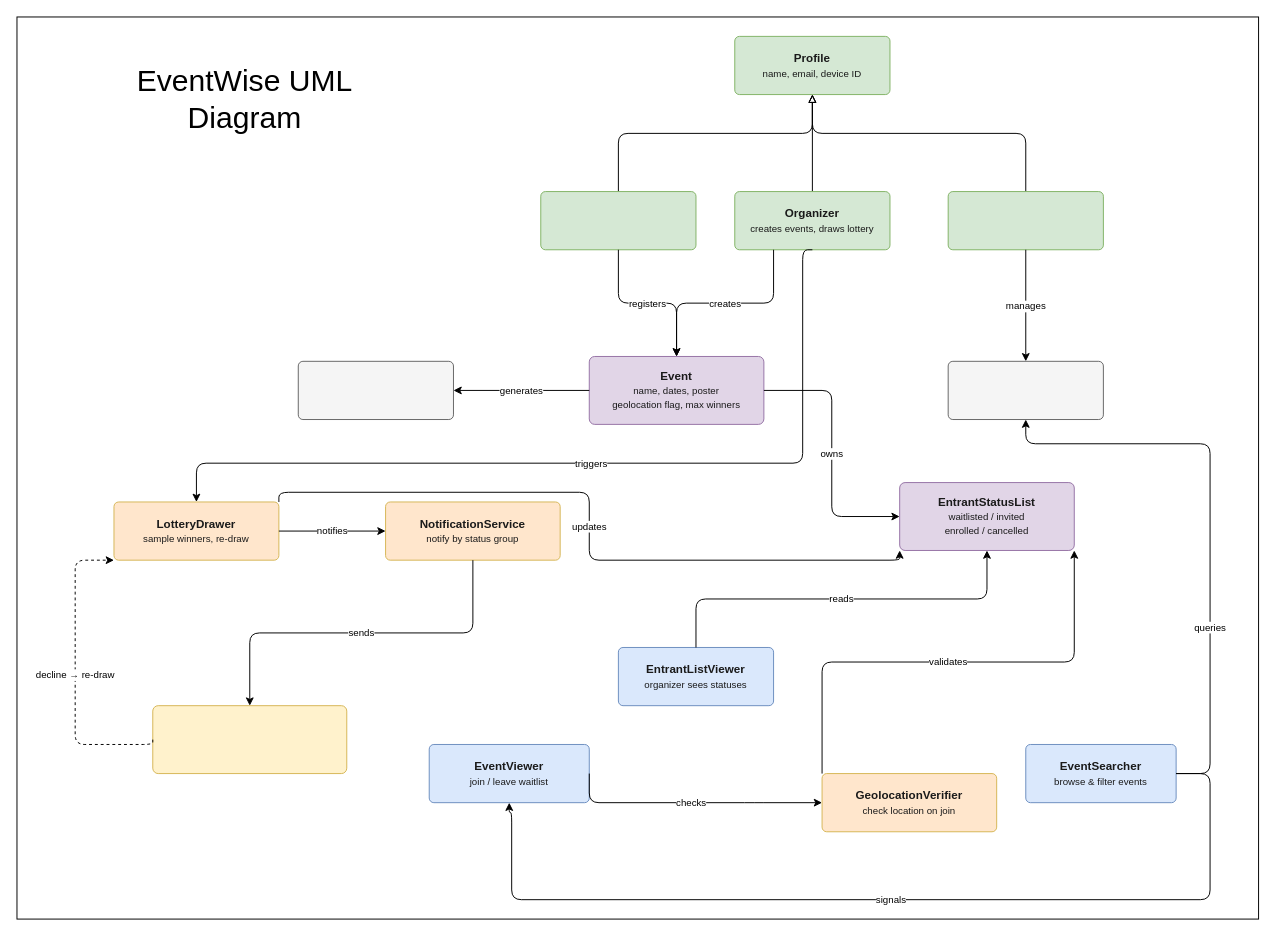
Some shapes in this 1276 by 936 pixel diagram are drawn without their labels. Each missing label, with the centre of its shape:
Admin moderate content & users: point (1025, 220)
DatabaseManager Firebase persistence: point (1025, 390)
Entrant stores joined events: point (618, 220)
Invitation accept → enrolled decline → re-draw: point (249, 739)
QRCode links to event: point (375, 390)
